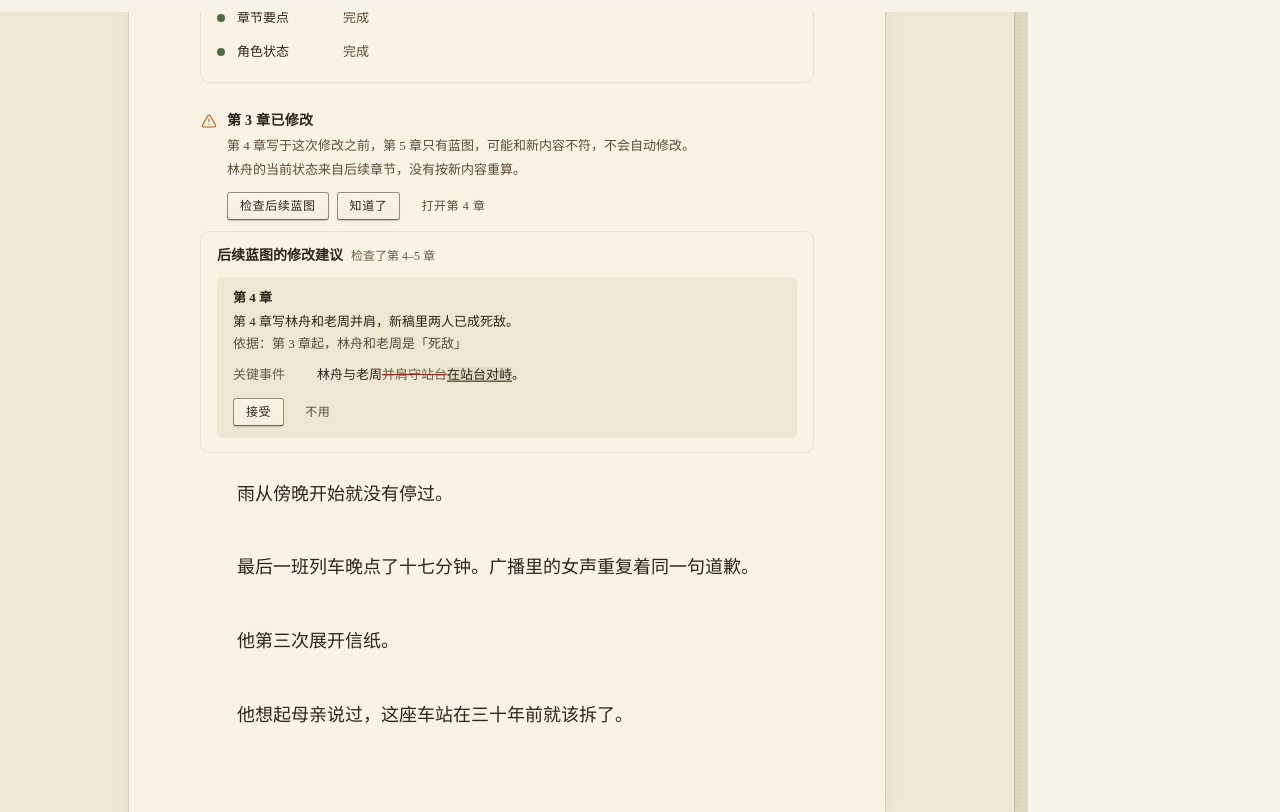
it: 替换定稿后检查后续蓝图 › 「不用」只记下决定，蓝图不动
(page scrolled)
Expected: the text "第 3 章已修改" is shown, 227,113 -> 313,128
Click the button "不用": x=318, y=412 292,398 -> 343,426
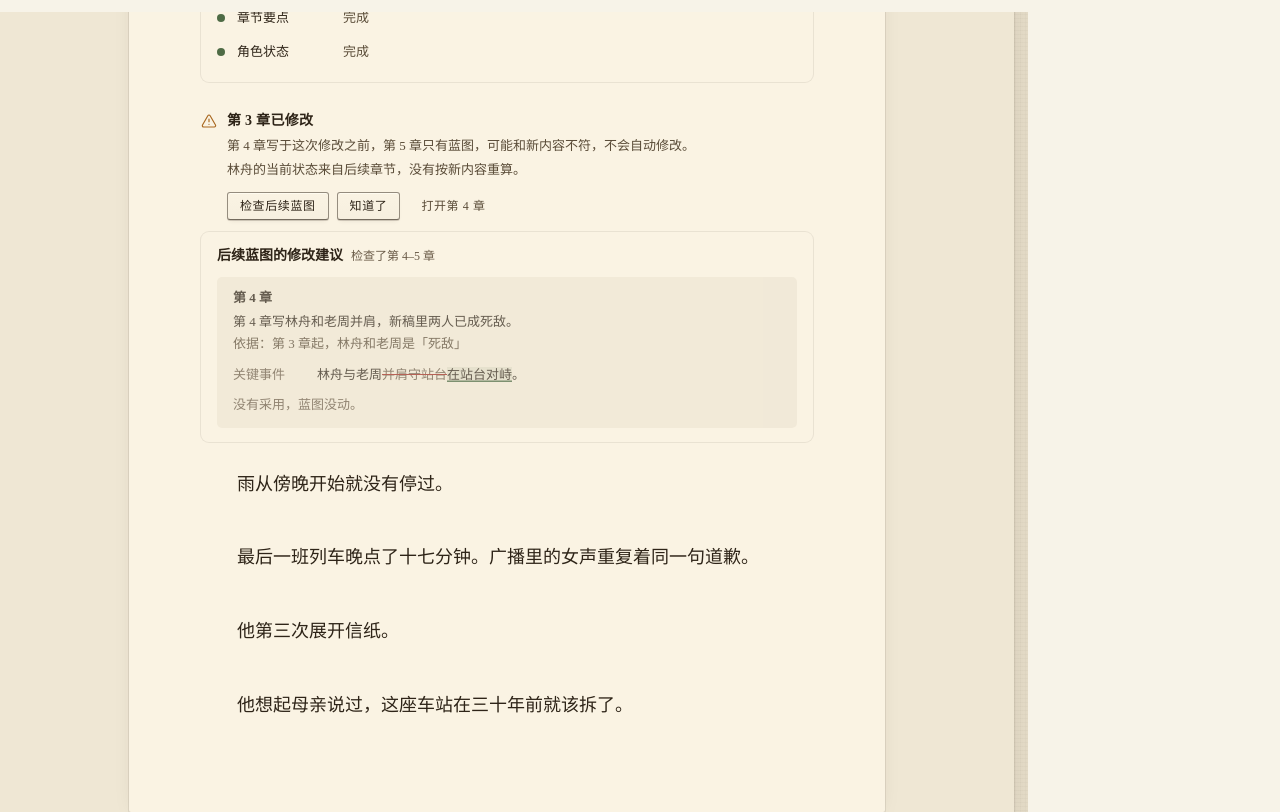
Expected: the text "没有采用，蓝图没动。" is shown, 233,397 -> 363,412
